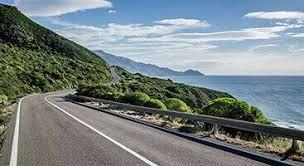road: (17, 91, 265, 165)
